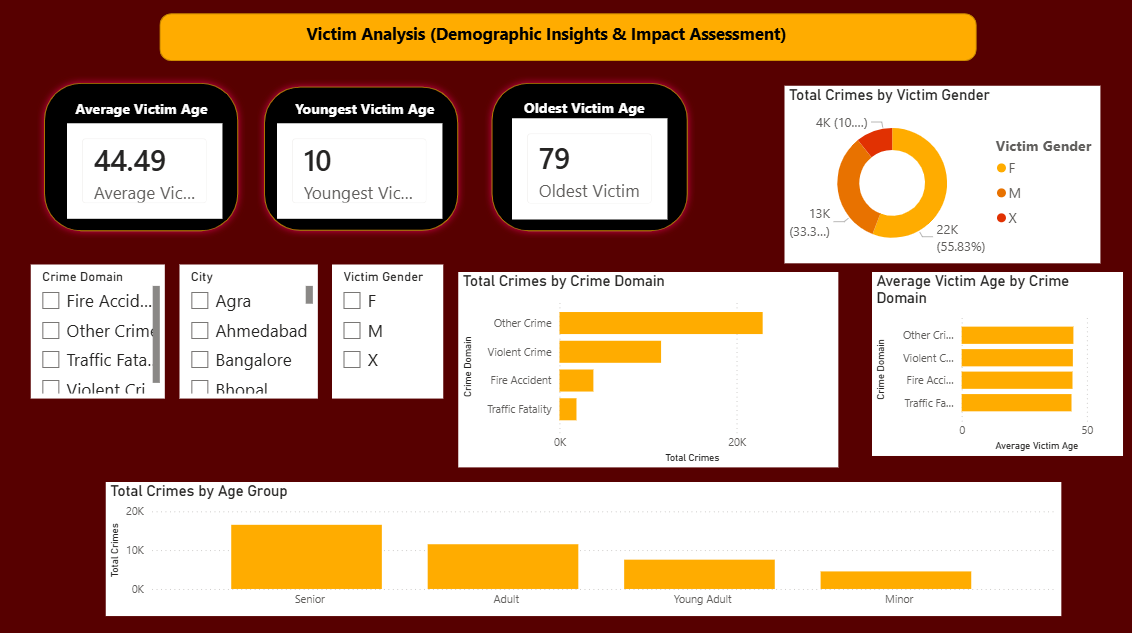

The dashboard page shown, as its layout file describes it:
{"tool":"powerbi","page":{"name":"Page 2","canvas":[1280,720],"ordinal":1},"visuals":[{"type":"shape","box":[182.4,17.9,916.7,53.6],"z":0},{"type":"textbox","box":[342.1,23.8,683,42.9],"z":1000},{"type":"shape","box":[45.3,88.2,233.6,182.4],"z":2000},{"type":"textbox","box":[82.2,109.7,170.5,50.1],"z":3000},{"type":"textbox","box":[578.1,114.4,174,41.7],"z":4000},{"type":"clusteredColumnChart","fields":{"Category":["Crime.Age Group"],"Y":["Crime.Total Crimes"]},"box":[121.6,543.6,1071.6,150.2],"z":5000},{"type":"donutChart","fields":{"Category":["Crime.Victim Gender"],"Y":["Crime.Total Crimes"]},"box":[883.1,100.1,354,199.1],"z":6000},{"type":"barChart","fields":{"Category":["Crime.Crime Domain"],"Y":["Crime.Total Crimes"]},"box":[517.3,308.7,426.7,219.3],"z":7000},{"type":"barChart","fields":{"Category":["Crime.Crime Domain"],"Y":["Crime.Average Victim Age"]},"box":[982.2,308.7,281.3,206.2],"z":8000},{"type":"slicer","fields":{"Values":["Crime.City"]},"box":[205.3,299.4,155,150.2],"z":9000},{"type":"slicer","fields":{"Values":["Crime.Crime Domain"]},"box":[38.4,299.4,150.2,150.2],"z":10000},{"type":"slicer","fields":{"Values":["Crime.Victim Gender"]},"box":[375.7,299.4,125.2,150.2],"z":11000},{"type":"shape","box":[292,93,233.6,177.6],"z":12000},{"type":"shape","box":[547.1,88.2,236,182.4],"z":13000},{"type":"textbox","box":[329,109.7,249.1,51.3],"z":14000},{"type":"textbox","box":[586.5,108.5,317.1,150.2],"z":15000},{"type":"cardVisual","fields":{"Data":["Crime.Average Victim Age"]},"box":[78.7,141.9,174,107.3],"z":16000},{"type":"cardVisual","fields":{"Data":["Crime.Youngest Victim"]},"box":[313.5,141.9,186,107.3],"z":17000},{"type":"cardVisual","fields":{"Data":["Crime.Oldest Victim"]},"box":[578.1,135.9,174,113.2],"z":18000}]}

Visuals, with their boxes in screenshot pixels (x1, y1, x2, y2), scaled from the page's 1280x720 canvas onto the 1132x633 screenshot:
shape: (161,16,972,63)
textbox: (303,21,907,59)
shape: (40,78,247,238)
textbox: (73,96,223,140)
textbox: (511,101,665,137)
clusteredColumnChart - Crime.Age Group x Crime.Total Crimes: (108,478,1055,610)
donutChart - Crime.Victim Gender x Crime.Total Crimes: (781,88,1094,263)
barChart - Crime.Crime Domain x Crime.Total Crimes: (457,271,835,464)
barChart - Crime.Crime Domain x Crime.Average Victim Age: (869,271,1117,453)
slicer - Crime.City: (182,263,319,395)
slicer - Crime.Crime Domain: (34,263,167,395)
slicer - Crime.Victim Gender: (332,263,443,395)
shape: (258,82,465,238)
shape: (484,78,693,238)
textbox: (291,96,511,142)
textbox: (519,95,799,227)
cardVisual - Crime.Average Victim Age: (70,125,223,219)
cardVisual - Crime.Youngest Victim: (277,125,442,219)
cardVisual - Crime.Oldest Victim: (511,119,665,219)
